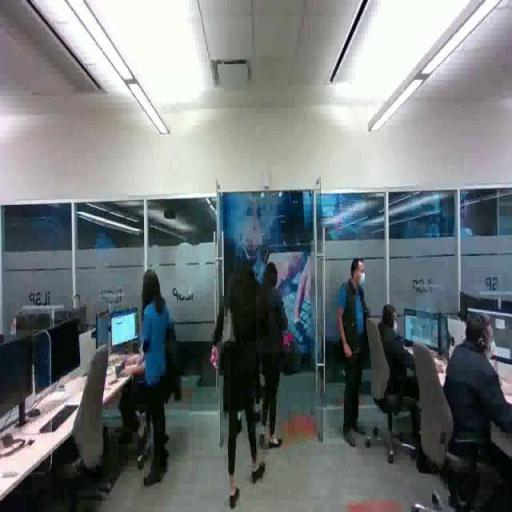person: (437, 304, 512, 512), (211, 254, 270, 511), (137, 265, 183, 492), (376, 303, 431, 469), (333, 260, 376, 452), (251, 263, 289, 453)
